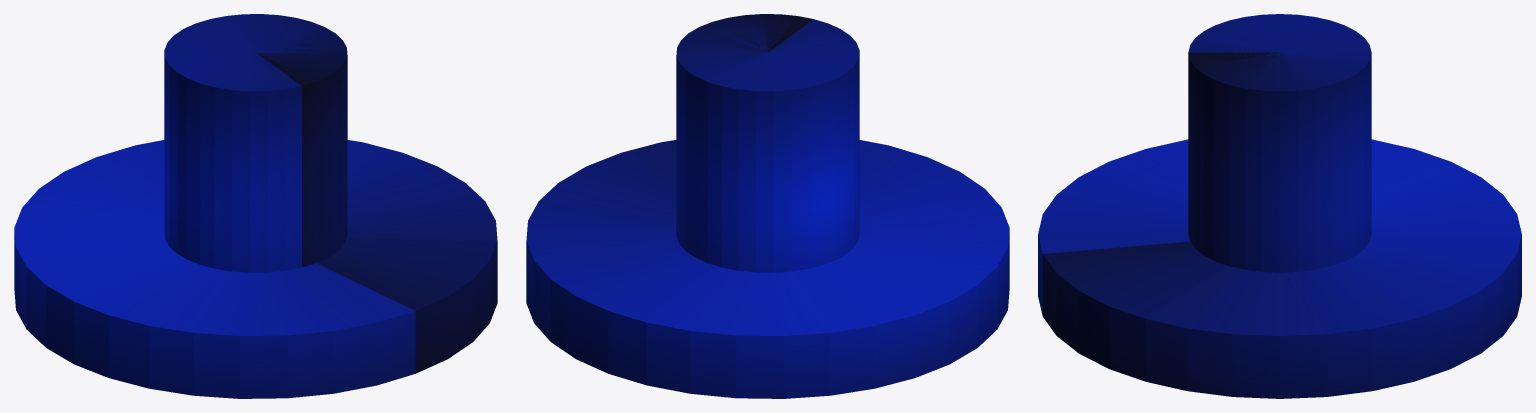
Rendered from paddleTwo.obj.
3 views of the same model, side by side, from view 1: azimuth 30°, elevation 25°; view 2: azimuth 150°, elevation 25°; view 3: azimuth 270°, elevation 25° (orthographic).
Visible parts, largest first — view 1: Cylinder; view 2: Cylinder; view 3: Cylinder.
Boxes of the visible parts, x1,y1,x2,y2 form: Cylinder: [14, 14, 497, 398]; Cylinder: [526, 14, 1009, 398]; Cylinder: [1038, 14, 1521, 398].
Size of the model in its own units: 2.38 by 1.33 by 2.38.
Materials: 1 (1 with a texture image).
